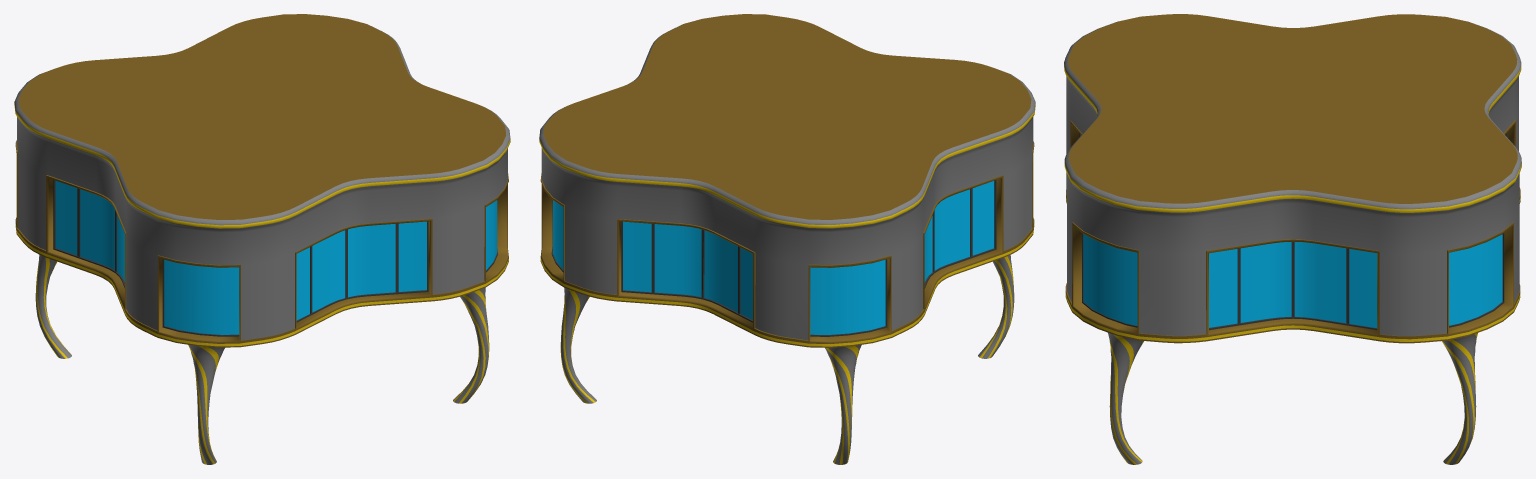
File: SM_Building_Middle_01_MK5.fbx
The picture shows the model from 3 angles, left to right: view 1: azimuth 30°, elevation 25°; view 2: azimuth 150°, elevation 25°; view 3: azimuth 270°, elevation 25°; orthographic projection. The views are drawn at different scales.
Parts seen in each view (by area): view 1: SM_Building_Middle_01_MK5; view 2: SM_Building_Middle_01_MK5; view 3: SM_Building_Middle_01_MK5.
Part boxes in pixels (box(x1,y1,x2,y2)): SM_Building_Middle_01_MK5: box(14, 14, 510, 464); SM_Building_Middle_01_MK5: box(539, 14, 1035, 464); SM_Building_Middle_01_MK5: box(1064, 14, 1521, 464).
Size of the model in its own units: 1500 by 1032 by 1500.
